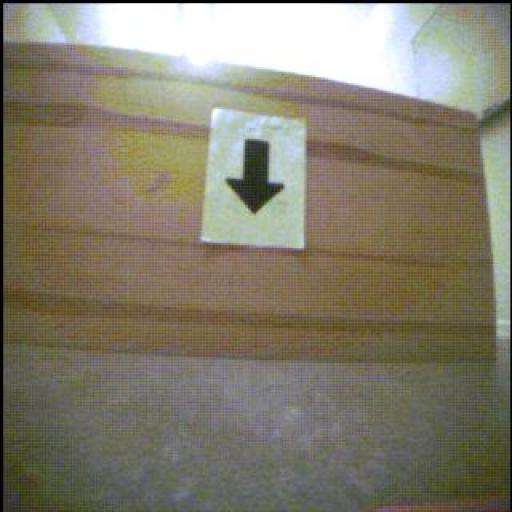Arrow: (227, 141, 286, 216)
